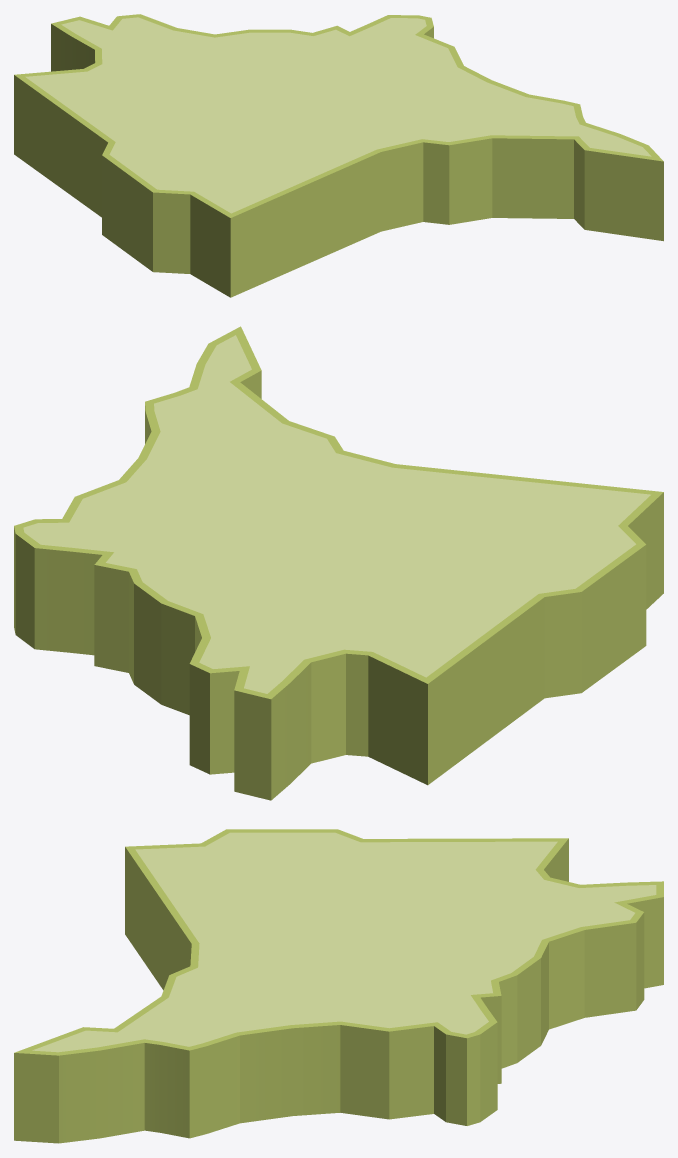
The model's file is Islands1.006.fbx.
3 views of the same model, one above another, from view 1: azimuth 30°, elevation 25°; view 2: azimuth 150°, elevation 25°; view 3: azimuth 270°, elevation 25° (orthographic). The views are drawn at different scales.
Visible parts, largest first — view 1: Island1.006; view 2: Island1.006; view 3: Island1.006.
Boxes of the visible parts, left/top/right/bottom form: Island1.006: left=14, top=14, right=663, bottom=297; Island1.006: left=14, top=326, right=663, bottom=800; Island1.006: left=14, top=829, right=663, bottom=1143.
Size of the model in its own units: 138 by 25 by 168.
